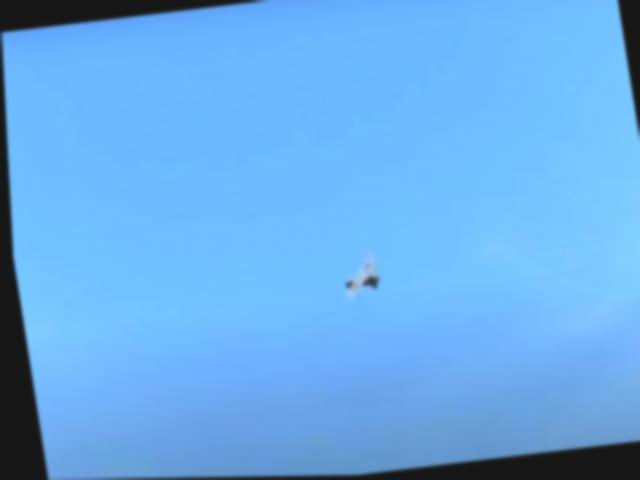uav: (337, 257, 379, 301)
